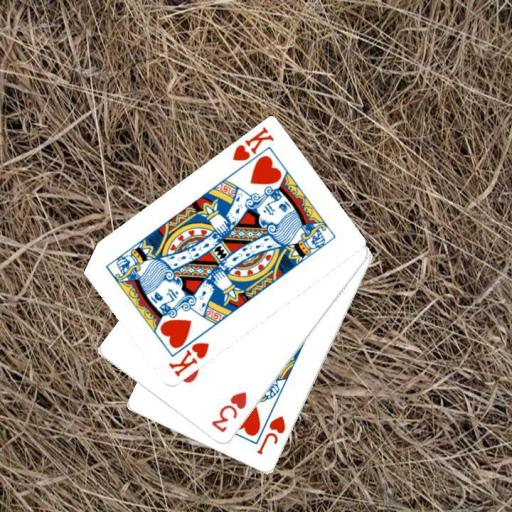3H: (208, 389, 249, 434)
JH: (254, 413, 287, 457)
KH: (165, 339, 211, 379), (229, 125, 275, 164)
